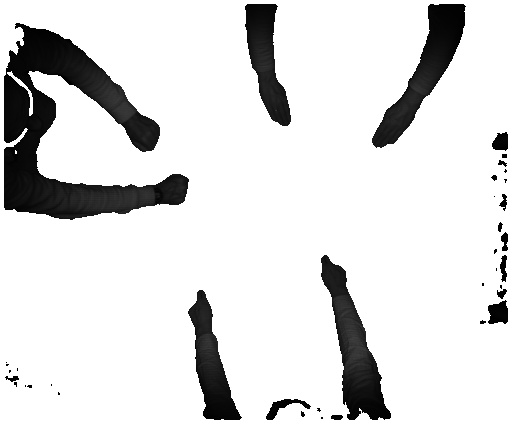fist: (162, 168, 191, 207), (128, 116, 159, 151)
hand: (368, 100, 418, 151), (258, 83, 295, 127), (184, 288, 215, 334), (320, 248, 351, 293)
